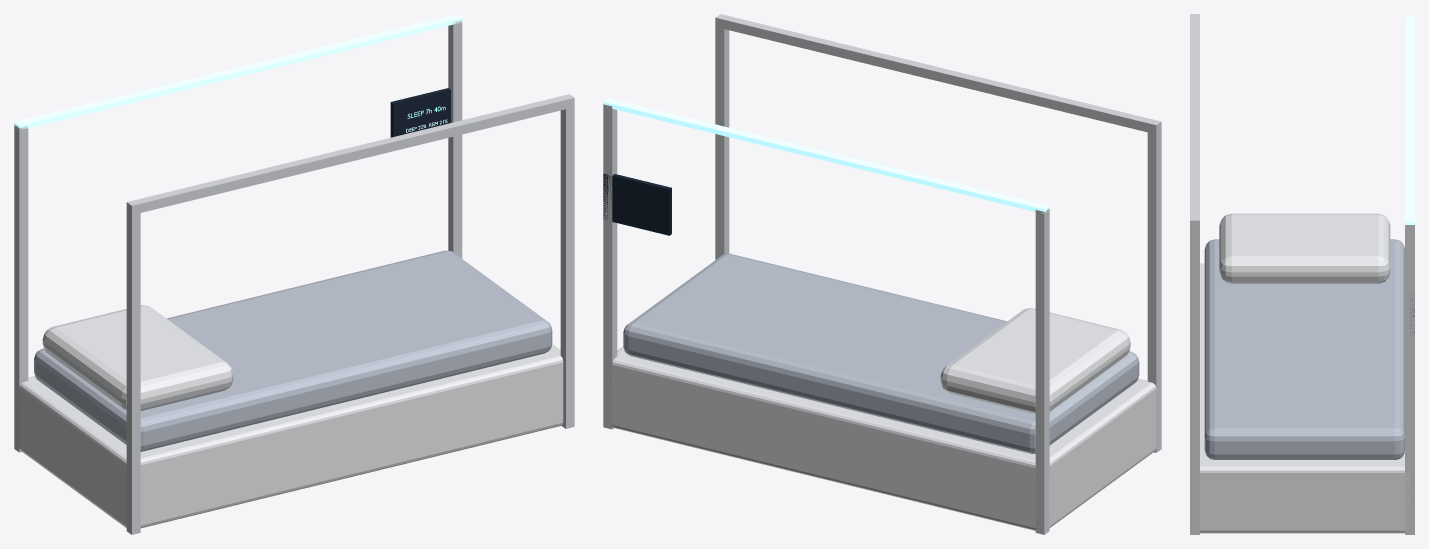
File: sleep_bunk.glb
3 renders of one model, left to right at view 1: azimuth 30°, elevation 25°; view 2: azimuth 150°, elevation 25°; view 3: azimuth 270°, elevation 25°, orthographic. The views are drawn at different scales.
Parts seen in each view (by area): view 1: Bunk_Frame, Mood_Light_Strip; view 2: Bunk_Frame, Mood_Light_Strip; view 3: Bunk_Frame, Mood_Light_Strip.
Boxes of the visible parts, x1,y1,x2,y2 form: Bunk_Frame: [14, 20, 574, 534]; Mood_Light_Strip: [14, 14, 462, 129]; Bunk_Frame: [603, 14, 1161, 534]; Mood_Light_Strip: [603, 98, 1049, 213]; Bunk_Frame: [1190, 14, 1414, 534]; Mood_Light_Strip: [1405, 16, 1414, 224].
Size of the model in its own units: 2 by 1.42 by 0.92.
4 materials, 4 textured.
